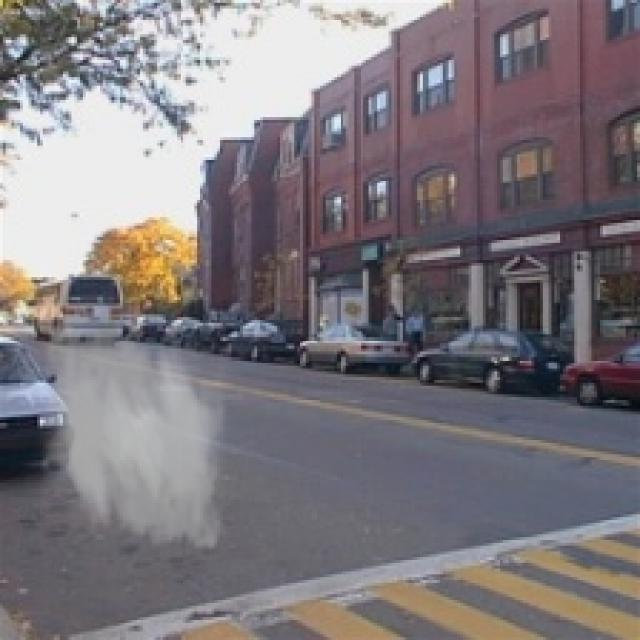smoke: (26, 314, 237, 560)
